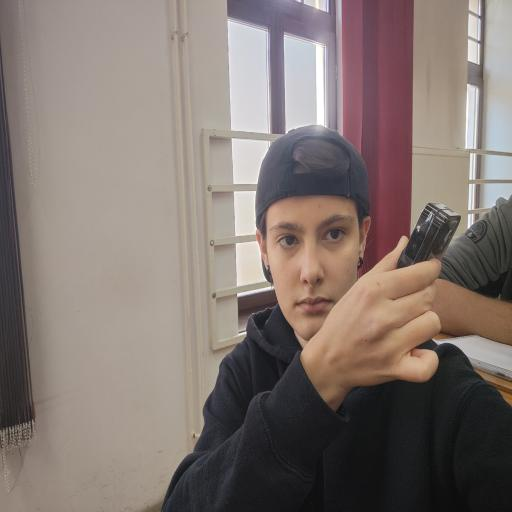CASTI: (394, 198, 461, 269)
